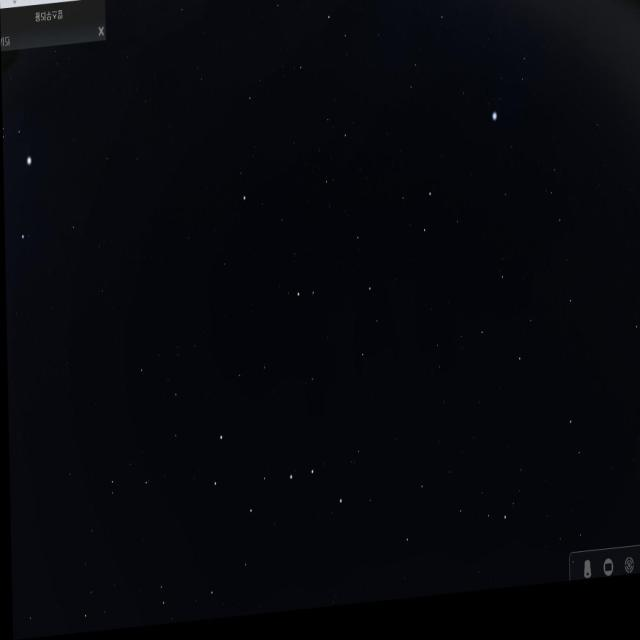lyra: (479, 47, 532, 140)
ursa_major: (207, 415, 344, 550)
